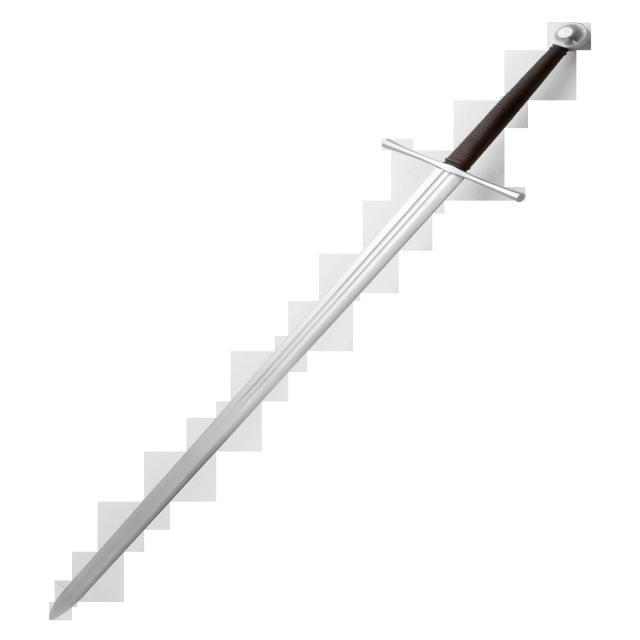sword: (38, 20, 592, 624)
